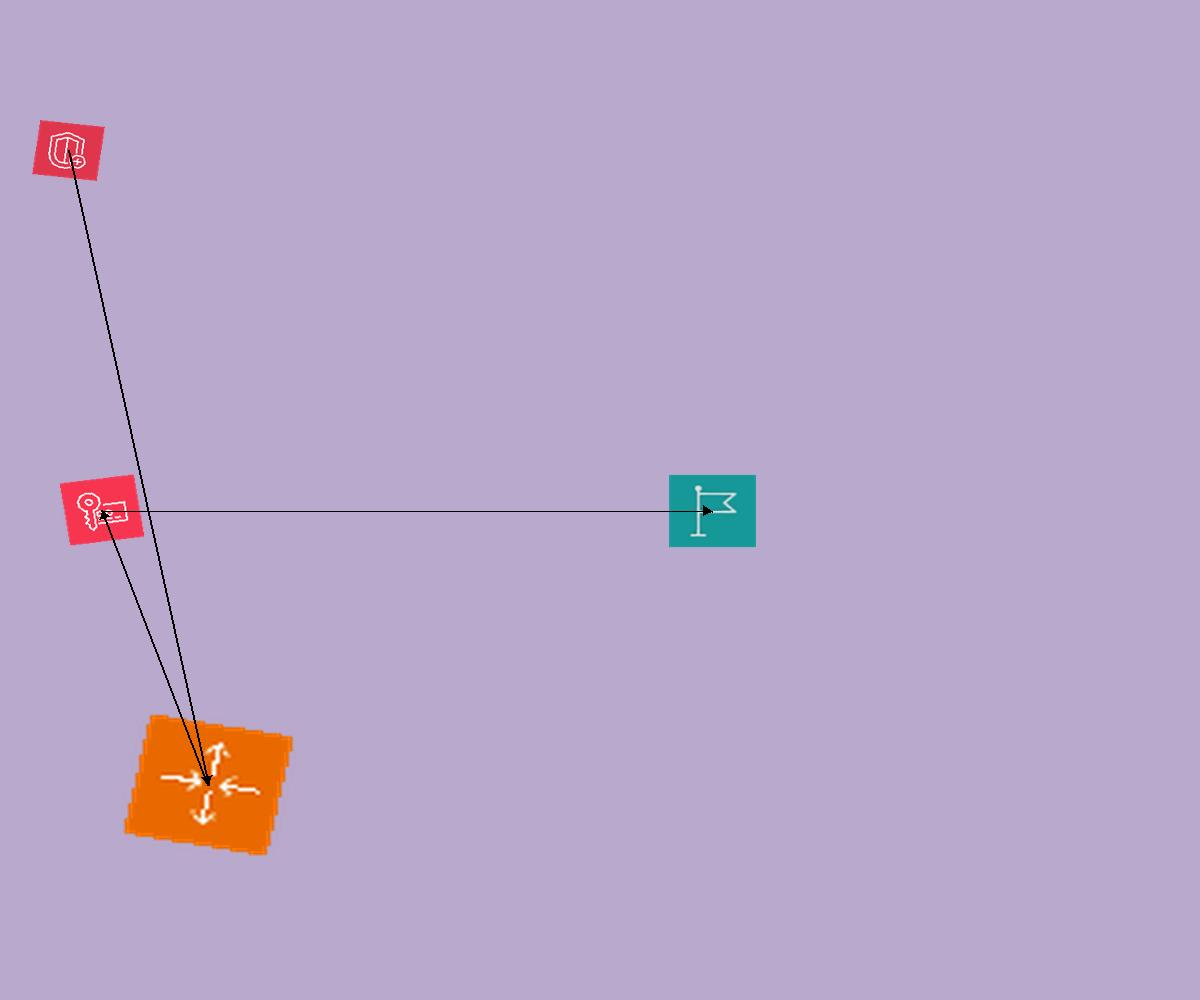AWS-Key-Management-Service: (59, 474, 145, 546)
AWS-Region: (668, 474, 757, 548)
AWS-Scaling-group: (121, 712, 296, 858)
AWS-Shield: (32, 120, 105, 181)
